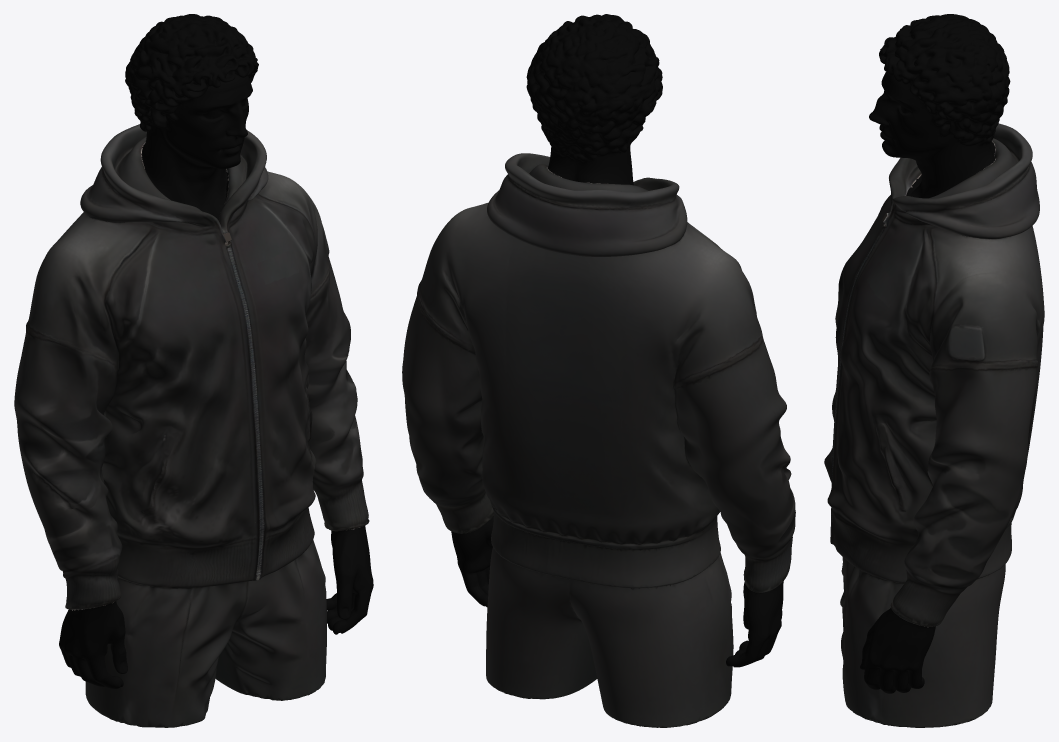
Rendered from hoodie-sculpture-patina.glb.
3 views of the same model, side by side, from view 1: azimuth 30°, elevation 25°; view 2: azimuth 150°, elevation 25°; view 3: azimuth 270°, elevation 25° (orthographic). The views are drawn at different scales.
Parts seen in each view (by area): view 1: model; view 2: model; view 3: model.
Part boxes in pixels (x1,y1,x2,y2): model: (14, 14, 373, 727); model: (402, 14, 795, 727); model: (824, 14, 1044, 727).
Bounding box in the file's own units: 1.03 × 1.9 × 0.5779.
3 materials, 1 textured.
